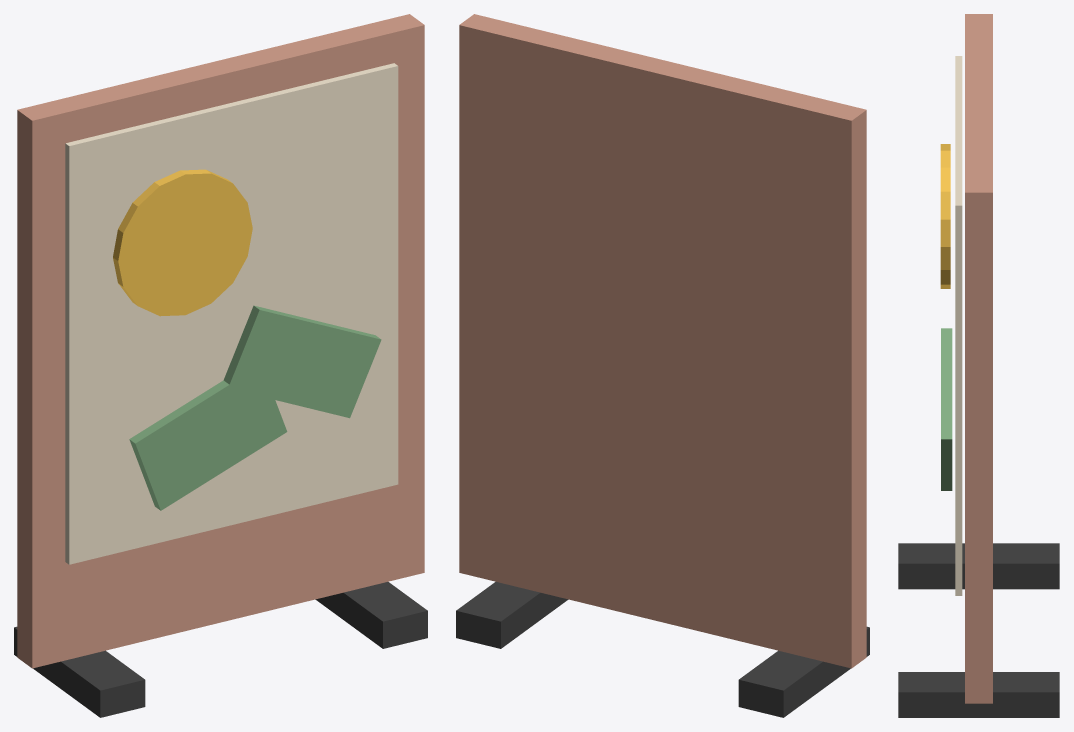
The picture shows the model from 3 angles, left to right: view 1: azimuth 30°, elevation 25°; view 2: azimuth 150°, elevation 25°; view 3: azimuth 270°, elevation 25°; orthographic projection. The views are drawn at different scales.
Parts seen in each view (by area): view 1: Gallery canvas, Panel, Relief circle, Raised geometric stroke, Raised geometric stroke.001, Panel foot, Panel foot.001; view 2: Panel, Panel foot, Panel foot.001; view 3: Panel, Panel foot.001, Panel foot, Gallery canvas, Raised geometric stroke, Relief circle.
Boxes of the visible parts, <box> form: Gallery canvas: <box>65,63,398,564</box>; Panel: <box>17,14,424,668</box>; Relief circle: <box>113,169,252,316</box>; Raised geometric stroke: <box>223,305,381,418</box>; Raised geometric stroke.001: <box>129,380,287,510</box>; Panel foot: <box>14,626,145,717</box>; Panel foot.001: <box>315,582,427,648</box>; Panel: <box>459,14,866,668</box>; Panel foot: <box>738,626,869,717</box>; Panel foot.001: <box>456,582,568,648</box>; Panel: <box>965,14,992,703</box>; Panel foot.001: <box>898,672,1059,717</box>; Panel foot: <box>898,543,1059,589</box>; Gallery canvas: <box>955,56,962,595</box>; Raised geometric stroke: <box>941,328,952,490</box>; Relief circle: <box>940,144,950,288</box>.
Size of the model in its own units: 1.05 by 1.48 by 0.4.
1 material, 1 textured.
